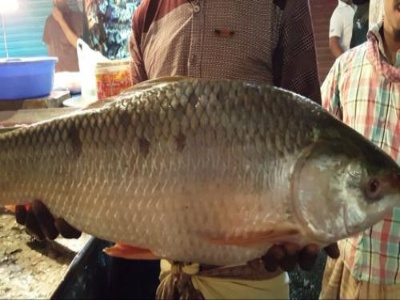rohu: (8, 75, 400, 270)
